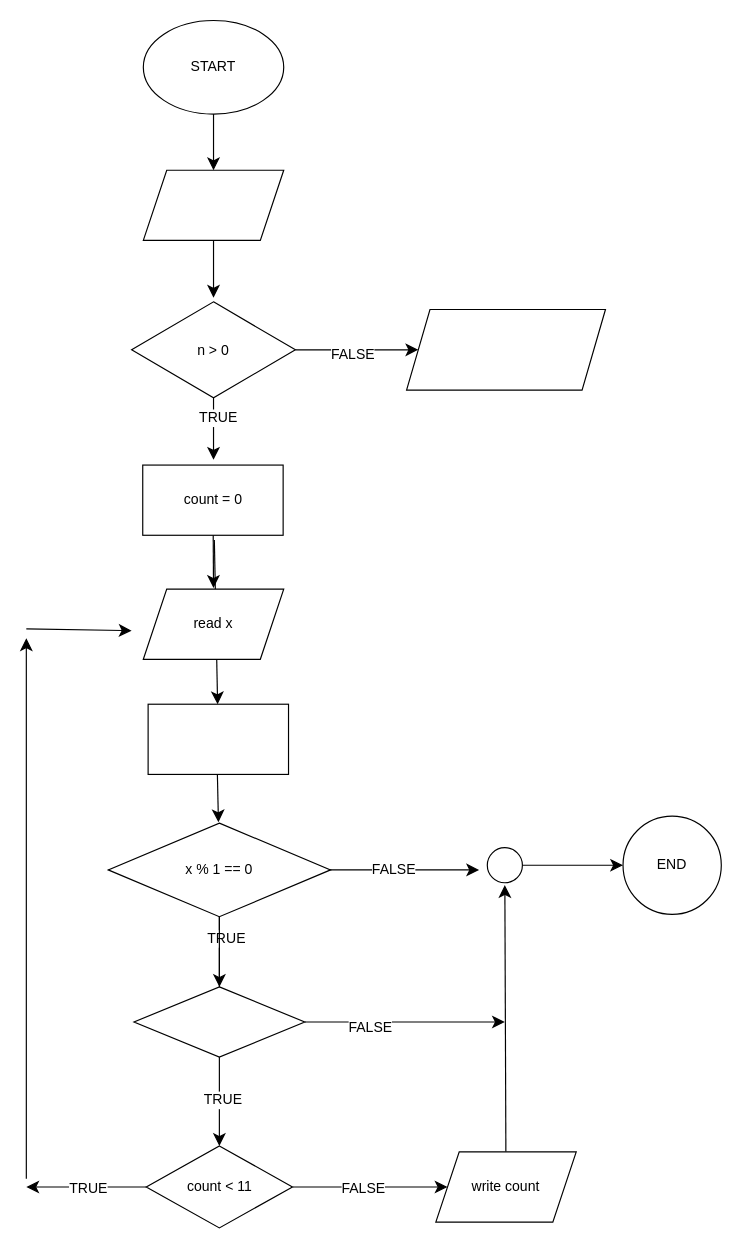
This 742x1248 diagram has some shape labels left out. The shapes that lost their labels are listed below. From the top down, each one's centre as x and y in pixels, then its label:
pixel 213 204: read n
pixel 505 349: write "Errore, numero negativo"
pixel 218 738: COUNT += 1
pixel 219 1021: x % n == 0
